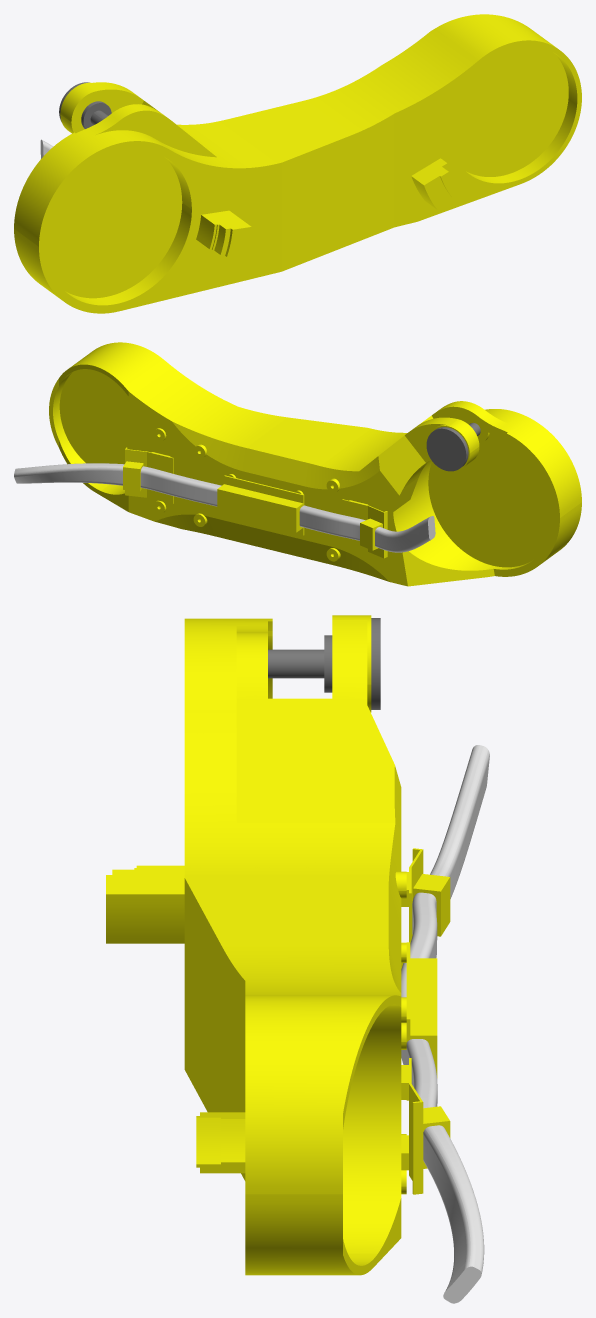
The picture shows the model from 3 angles, top to bottom: view 1: azimuth 30°, elevation 25°; view 2: azimuth 150°, elevation 25°; view 3: azimuth 270°, elevation 25°; orthographic projection. The views are drawn at different scales.
Visible parts, largest first — view 1: Mesh_0; view 2: Mesh_0; view 3: Mesh_0.
Part boxes in pixels (bbox=[...]): Mesh_0: bbox=[14, 14, 581, 313]; Mesh_0: bbox=[14, 342, 581, 586]; Mesh_0: bbox=[106, 615, 489, 1303].
Size of the model in its own units: 1.48 by 0.4936 by 0.4617.
